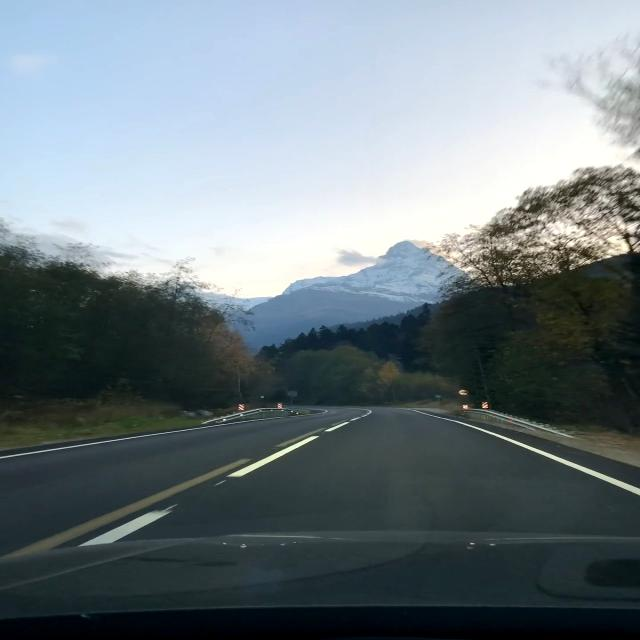lane: (4, 459, 249, 559), (411, 410, 640, 495), (0, 427, 213, 459), (80, 506, 176, 546), (229, 437, 318, 478), (324, 422, 349, 432)
